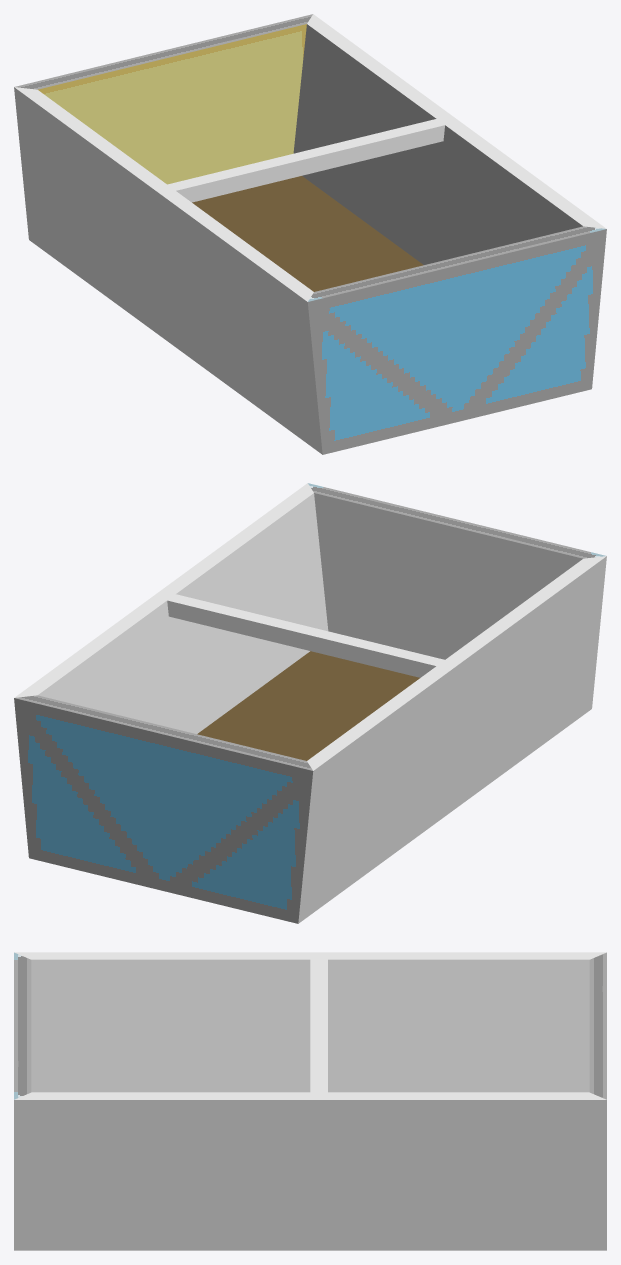
File: MineCars.glb
3 views of the same model, one above another, from view 1: azimuth 30°, elevation 25°; view 2: azimuth 150°, elevation 25°; view 3: azimuth 270°, elevation 25° (orthographic).
Visible parts, largest first — view 1: front, right, left, back, base, divider; view 2: back, right, left, front, base, divider; view 3: left, right, back, front, divider.
Part boxes in pixels (box(x1,y1,x2,y2)): front: box(307, 226, 606, 454); right: box(14, 87, 322, 454); left: box(293, 14, 606, 264); back: box(15, 14, 312, 184); base: box(192, 176, 423, 291); divider: box(167, 119, 444, 202); back: box(14, 695, 313, 923); right: box(298, 556, 606, 923); left: box(14, 483, 328, 733); front: box(308, 483, 605, 659); base: box(197, 651, 419, 760); divider: box(167, 594, 444, 677); left: box(14, 1092, 606, 1250); right: box(14, 952, 606, 1092); back: box(589, 952, 606, 1099); front: box(14, 952, 31, 1099); divider: box(310, 959, 327, 1092).
Bounding box in the file's own units: 1.25 × 0.625 × 2.12.
Materials: 5 (1 with a texture image).
